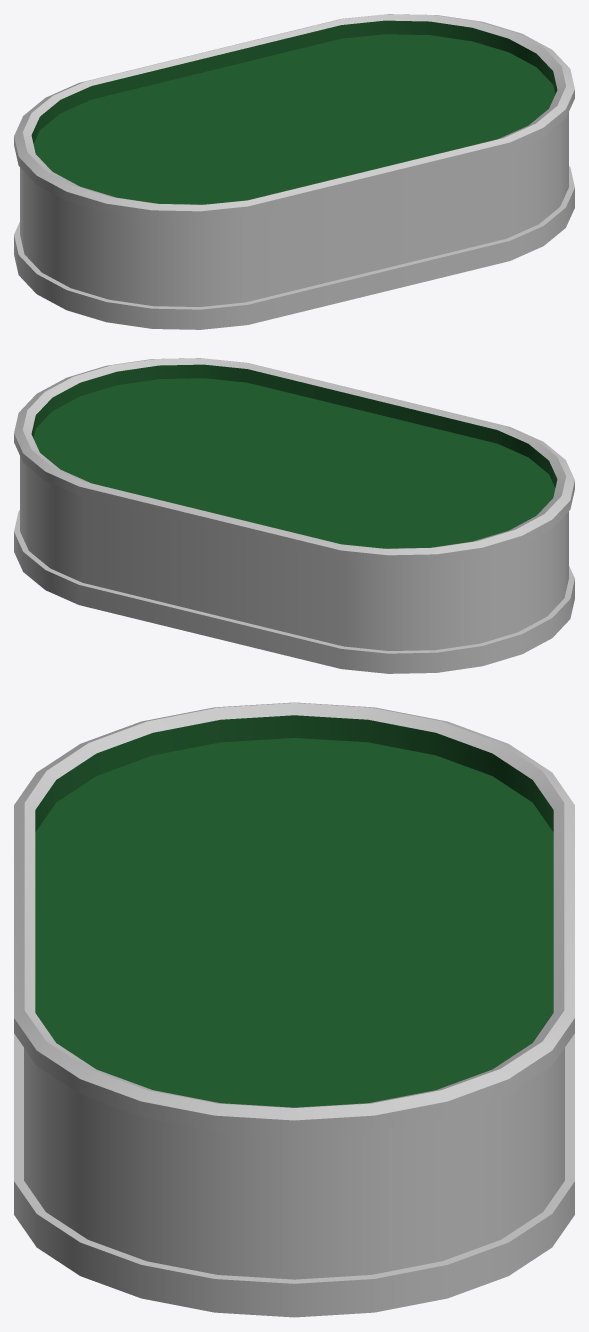
The model's file is Prop_CasinoTable_2.FBX.
The picture shows the model from 3 angles, top to bottom: view 1: azimuth 30°, elevation 25°; view 2: azimuth 150°, elevation 25°; view 3: azimuth 270°, elevation 25°; orthographic projection. The views are drawn at different scales.
Visible parts, largest first — view 1: Prop_CasinoTable_2; view 2: Prop_CasinoTable_2; view 3: Prop_CasinoTable_2.
Part boxes in pixels (bbox=[...]): Prop_CasinoTable_2: bbox=[14, 14, 574, 329]; Prop_CasinoTable_2: bbox=[14, 358, 574, 673]; Prop_CasinoTable_2: bbox=[14, 702, 574, 1317].
Bounding box in the file's own units: 4.63 × 1.05 × 2.63.
